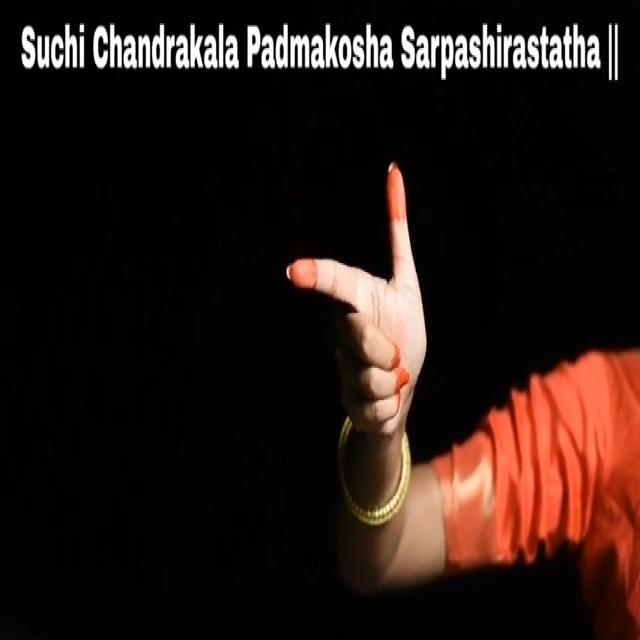Chandrakala: (278, 157, 455, 440)
bangle: (324, 422, 428, 534)
text: (12, 14, 623, 86)
